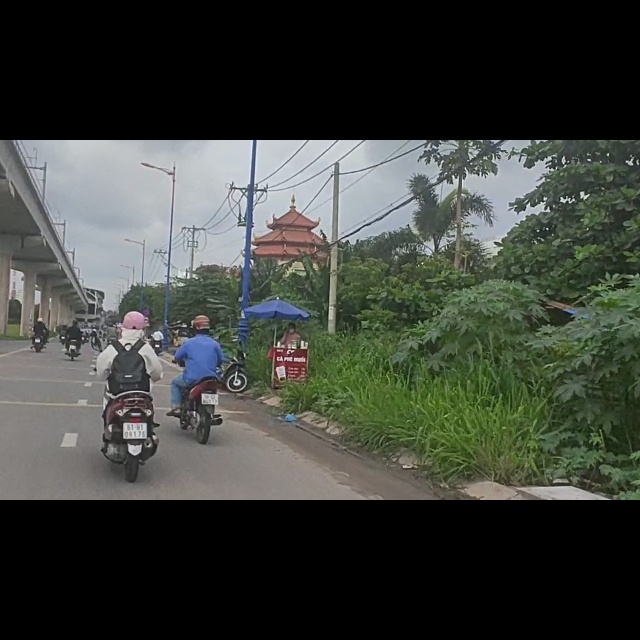bien_cam: (142, 301, 150, 314), (144, 314, 149, 326)
